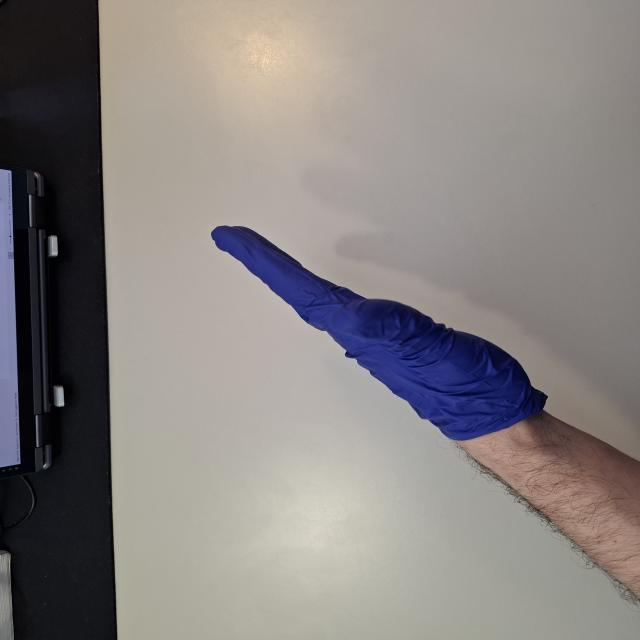glove_on: (207, 223, 551, 444)
